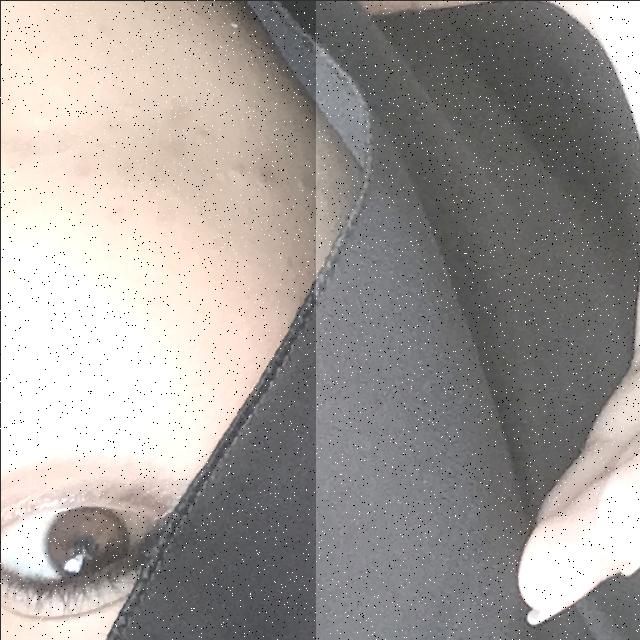mendengar: (315, 0, 640, 640)
